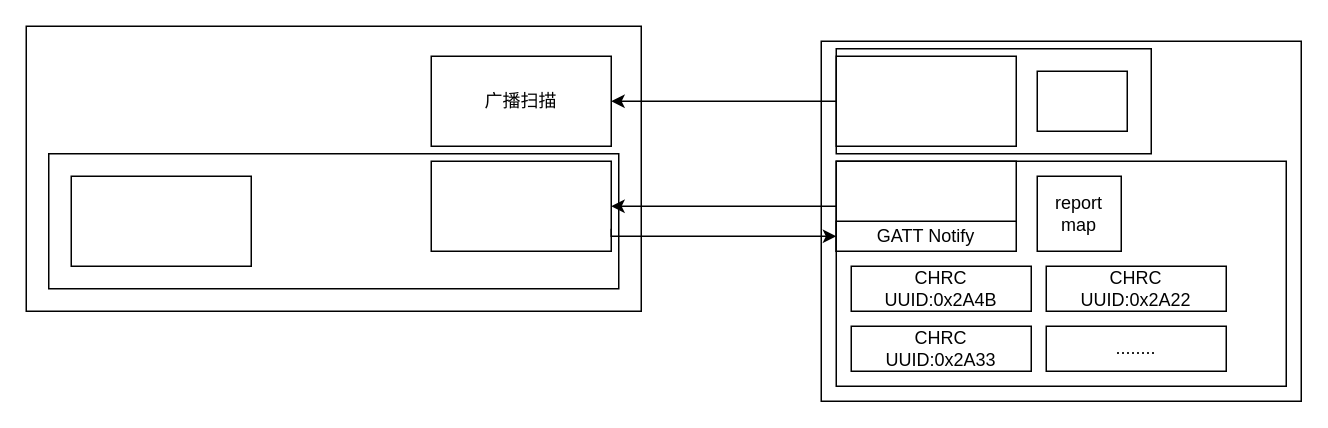
Some shapes in this 1328 by 428 pixel diagram are drawn without their labels. The box of each missing label's shape, as (x1, y1, x2, y2) in pixels:
GAP广播: (835, 55, 1016, 146)
GATT Client: (430, 160, 611, 251)
GATT Server: (835, 160, 1016, 251)
UUID： 0x1812: (1036, 70, 1127, 131)
